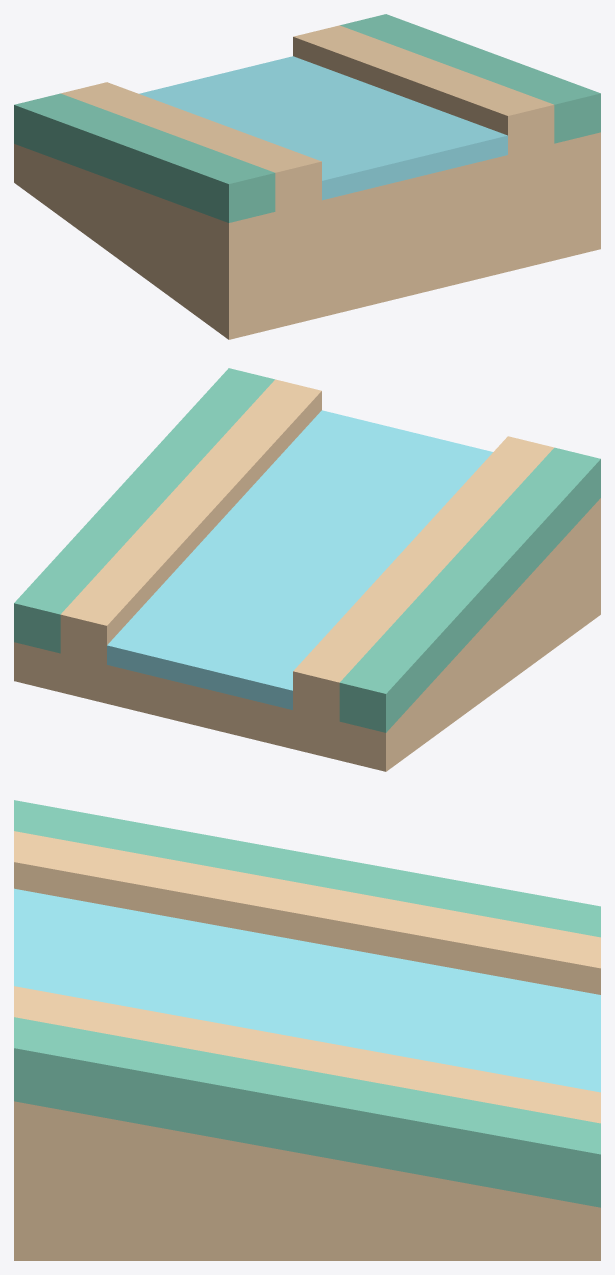
The model's file is tile_riverSlope.glb.
3 renders of one model, top to bottom at view 1: azimuth 30°, elevation 25°; view 2: azimuth 150°, elevation 25°; view 3: azimuth 270°, elevation 25°, orthographic. The views are drawn at different scales.
Visible parts, largest first — view 1: tile_riverSlope; view 2: tile_riverSlope; view 3: tile_riverSlope.
Boxes of the visible parts, x1=… form: tile_riverSlope: x1=14, y1=14, x2=600, y2=339; tile_riverSlope: x1=14, y1=368, x2=600, y2=771; tile_riverSlope: x1=14, y1=800, x2=600, y2=1260.
Bounding box in the file's own units: 1 × 0.4 × 1.
